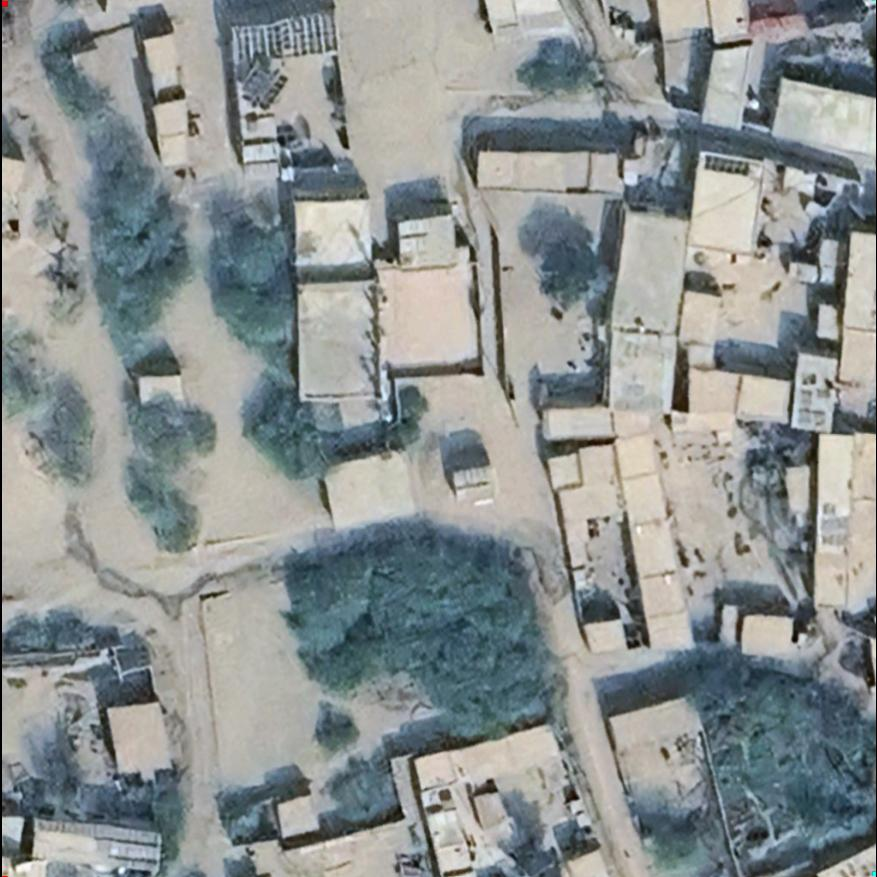Solarpanel: (225, 6, 345, 111), (33, 813, 167, 866), (699, 154, 751, 180)
